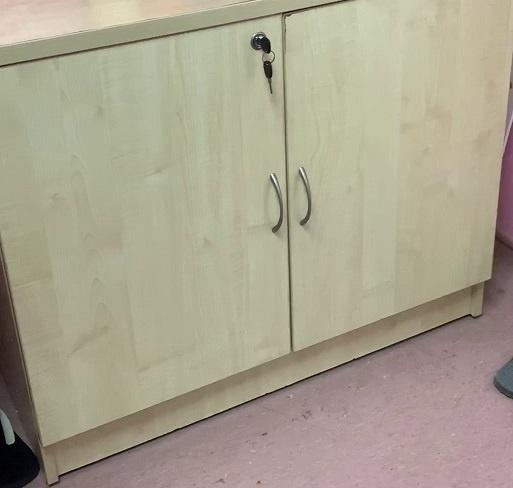cabinet_door: (0, 39, 284, 400), (284, 2, 505, 317)
handle: (298, 165, 315, 230), (270, 171, 286, 237)
